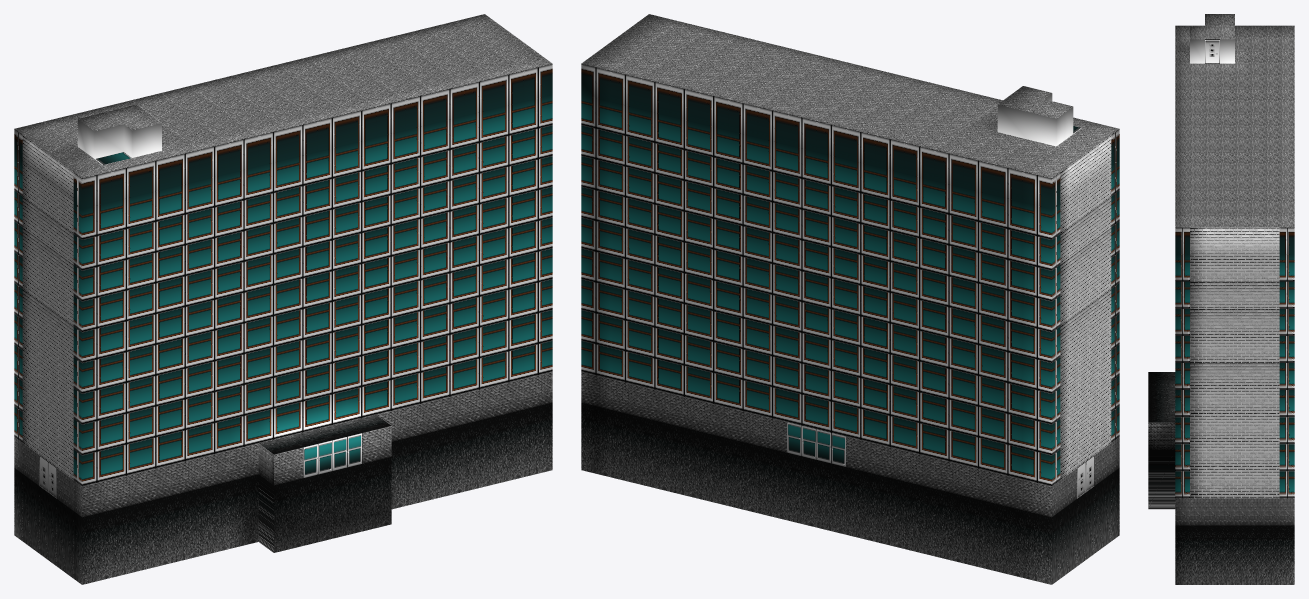
Rendered from kantoor_mod1_2b.fbx.
3 views of the same model, side by side, from view 1: azimuth 30°, elevation 25°; view 2: azimuth 150°, elevation 25°; view 3: azimuth 270°, elevation 25° (orthographic). The views are drawn at different scales.
Visible parts, largest first — view 1: kantoor_mod1_2b; view 2: kantoor_mod1_2b; view 3: kantoor_mod1_2b.
Part boxes in pixels (box(x1,y1,x2,y2)): kantoor_mod1_2b: box(14, 14, 552, 584); kantoor_mod1_2b: box(581, 14, 1119, 584); kantoor_mod1_2b: box(1148, 14, 1294, 584).
Bounding box in the file's own units: 5760 × 5076 × 1764.
